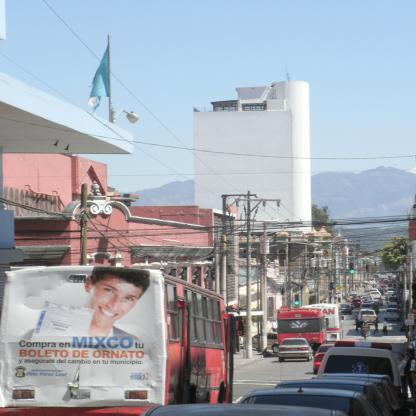Bus: (0, 262, 242, 416), (276, 308, 330, 353)
